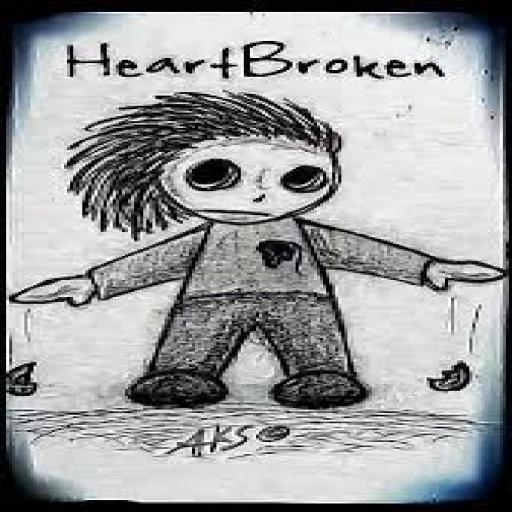person: (9, 86, 512, 414)
